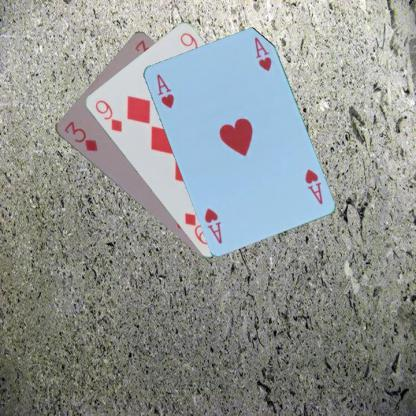3d: (61, 118, 99, 152)
9d: (92, 97, 123, 134)
Ah: (302, 166, 324, 206), (154, 71, 175, 110)
